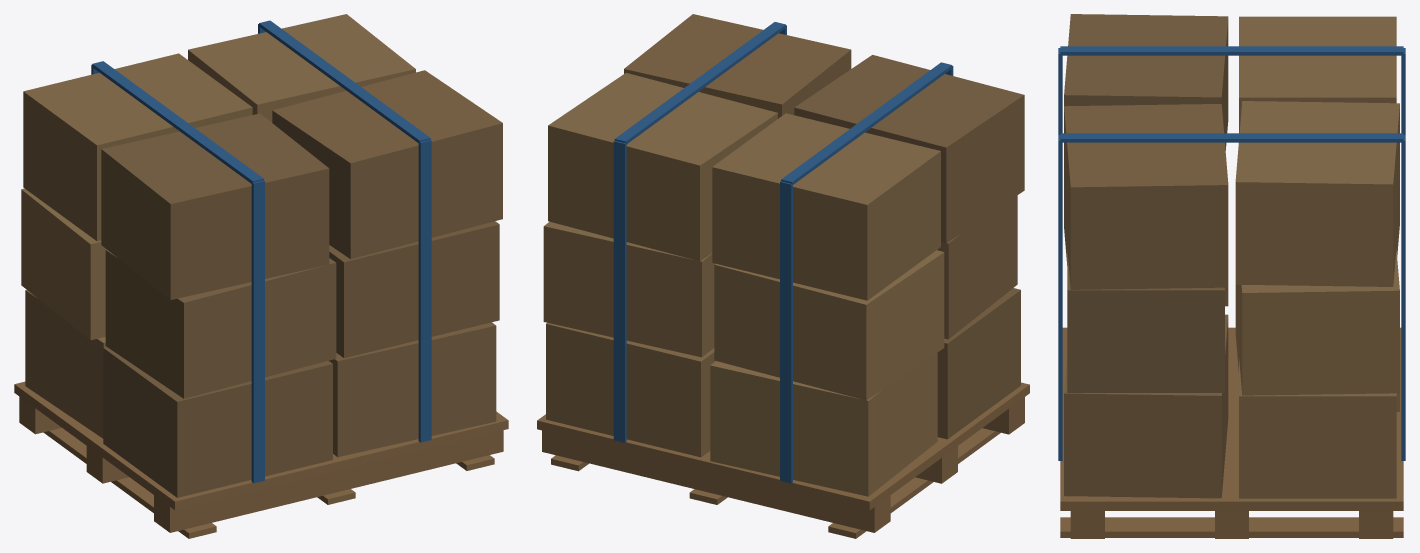
Rendered from pallet-boxes.glb.
3 renders of one model, left to right at view 1: azimuth 30°, elevation 25°; view 2: azimuth 150°, elevation 25°; view 3: azimuth 270°, elevation 25°, orthographic. The views are drawn at different scales.
Parts seen in each view (by area): view 1: Piece_lod0; view 2: Piece_lod0; view 3: Piece_lod0.
Boxes of the visible parts, x1,y1,x2,y2 form: Piece_lod0: (14,14,508,538); Piece_lod0: (537,14,1029,538); Piece_lod0: (1058,14,1405,538).
Size of what is drawn, in the model's own units: 1.2 by 1.18 by 1.01.
